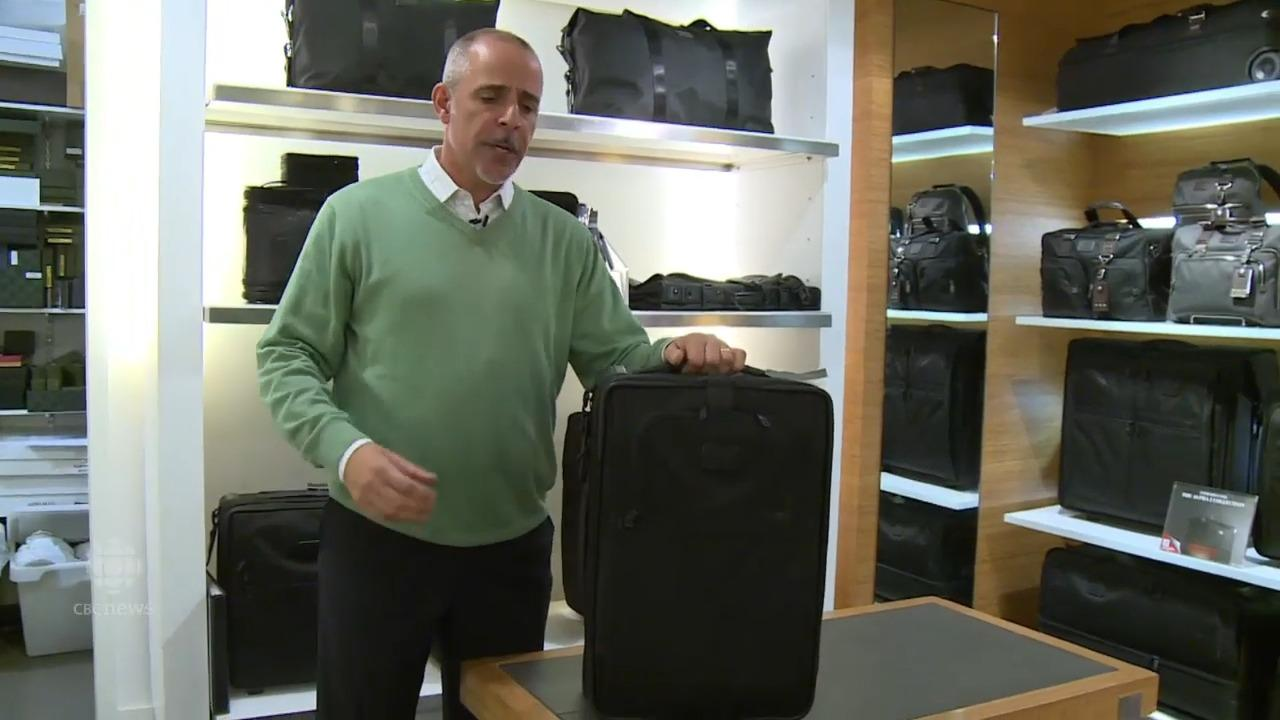luggage: (583, 374, 836, 720), (1038, 542, 1280, 720), (1062, 333, 1259, 542), (559, 4, 775, 140), (211, 486, 333, 692), (1057, 0, 1280, 112), (279, 0, 500, 108), (881, 326, 989, 488), (890, 63, 999, 136), (561, 406, 596, 615)
